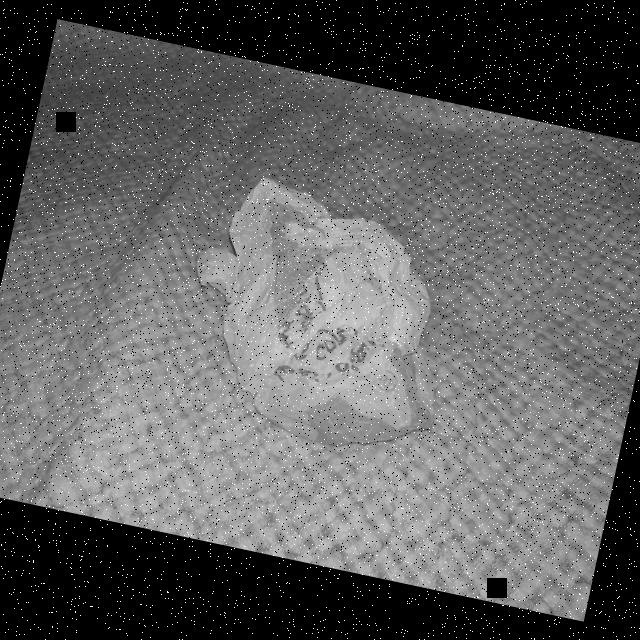plastic_bag: (158, 158, 482, 472)
